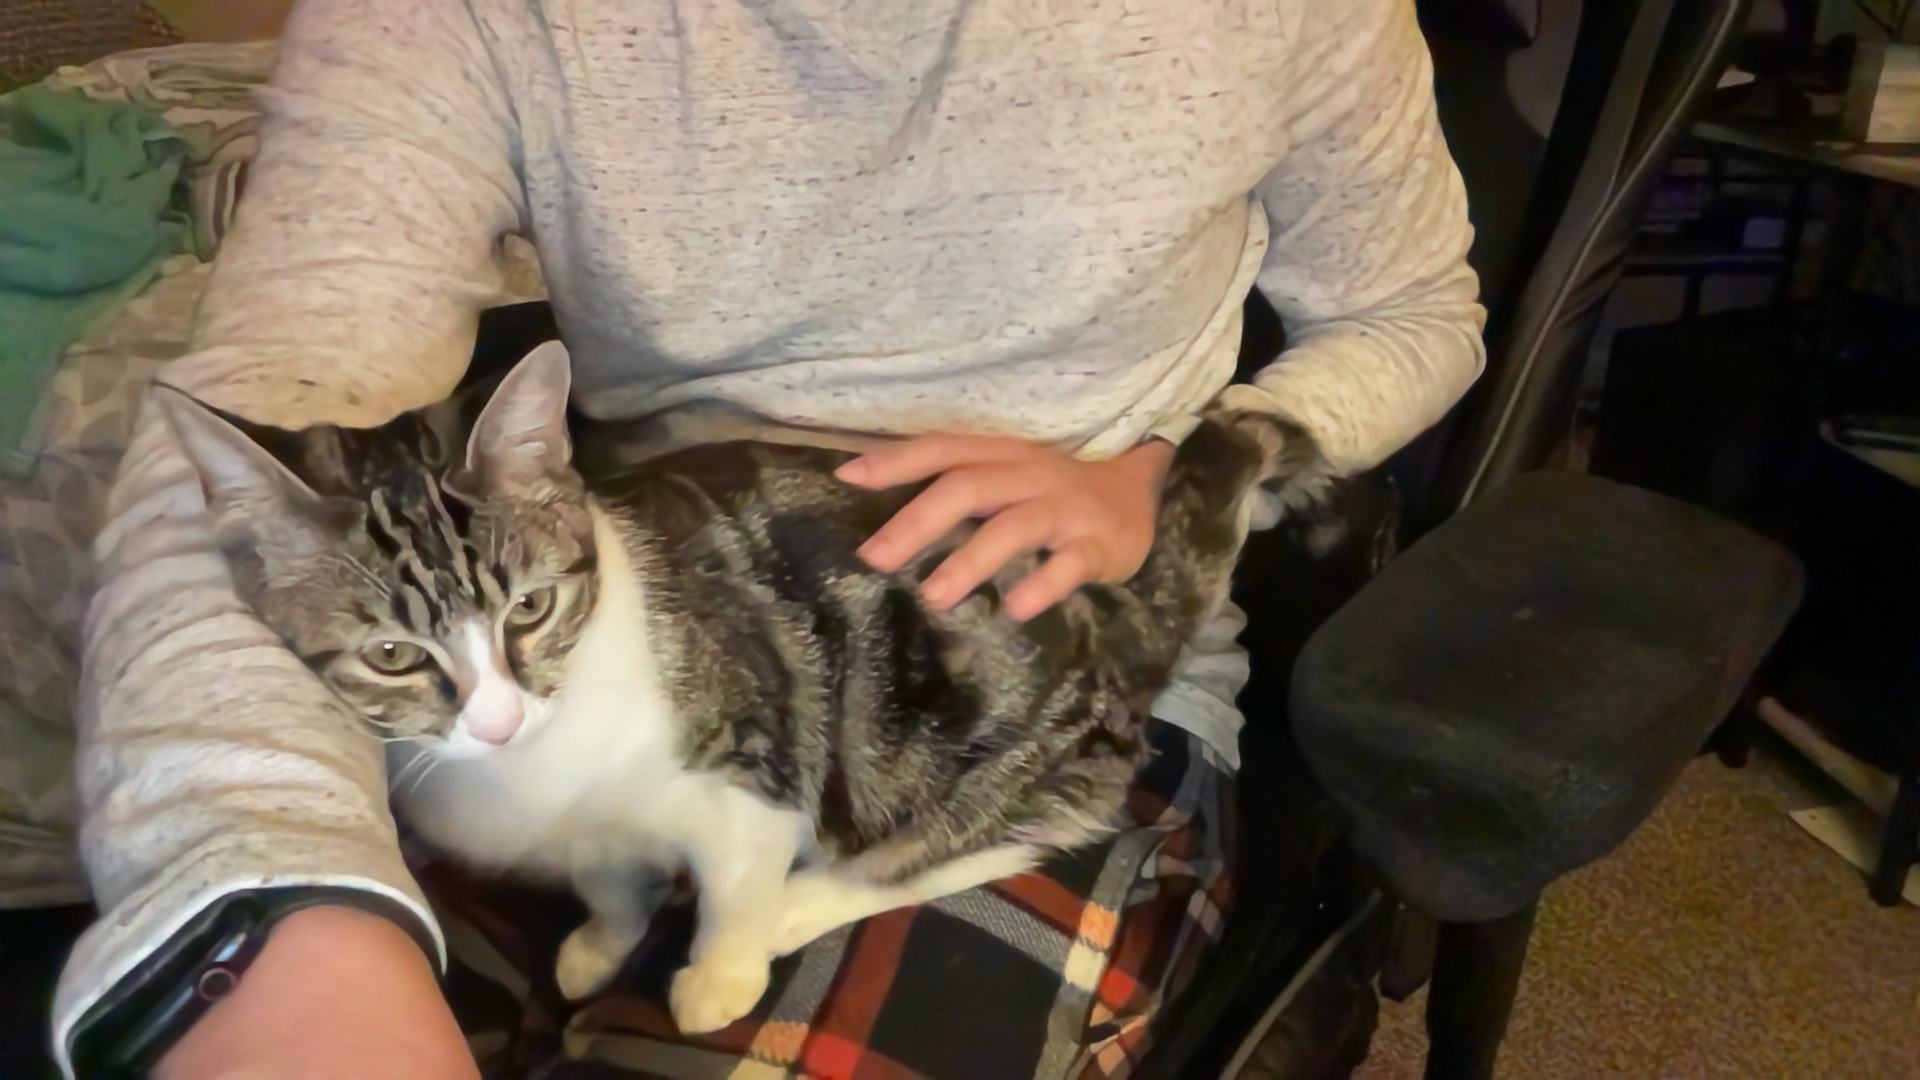cat: (149, 368, 1323, 1046)
